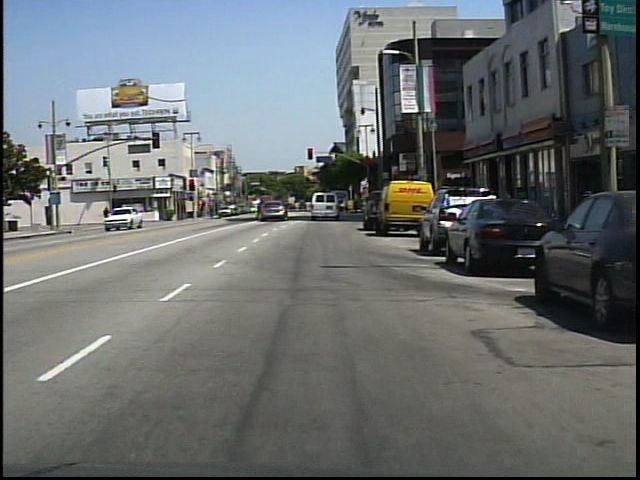person: (253, 193, 270, 222), (100, 202, 116, 230)
